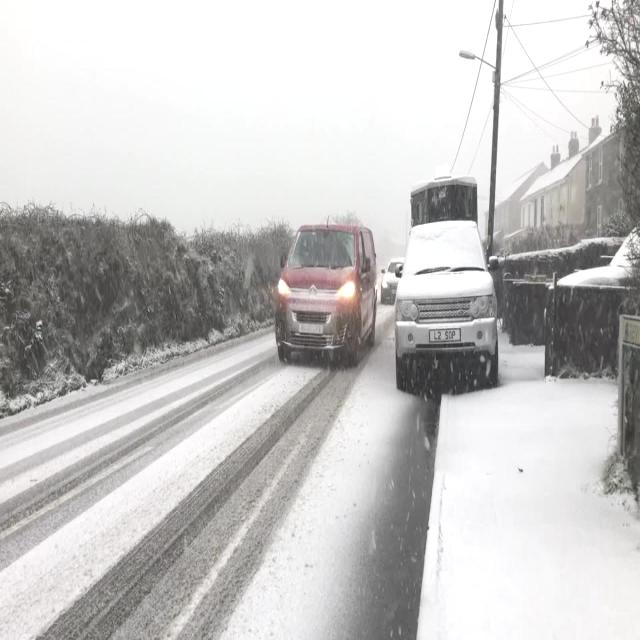Car: (400, 231, 500, 378)
Van: (278, 221, 378, 363)
